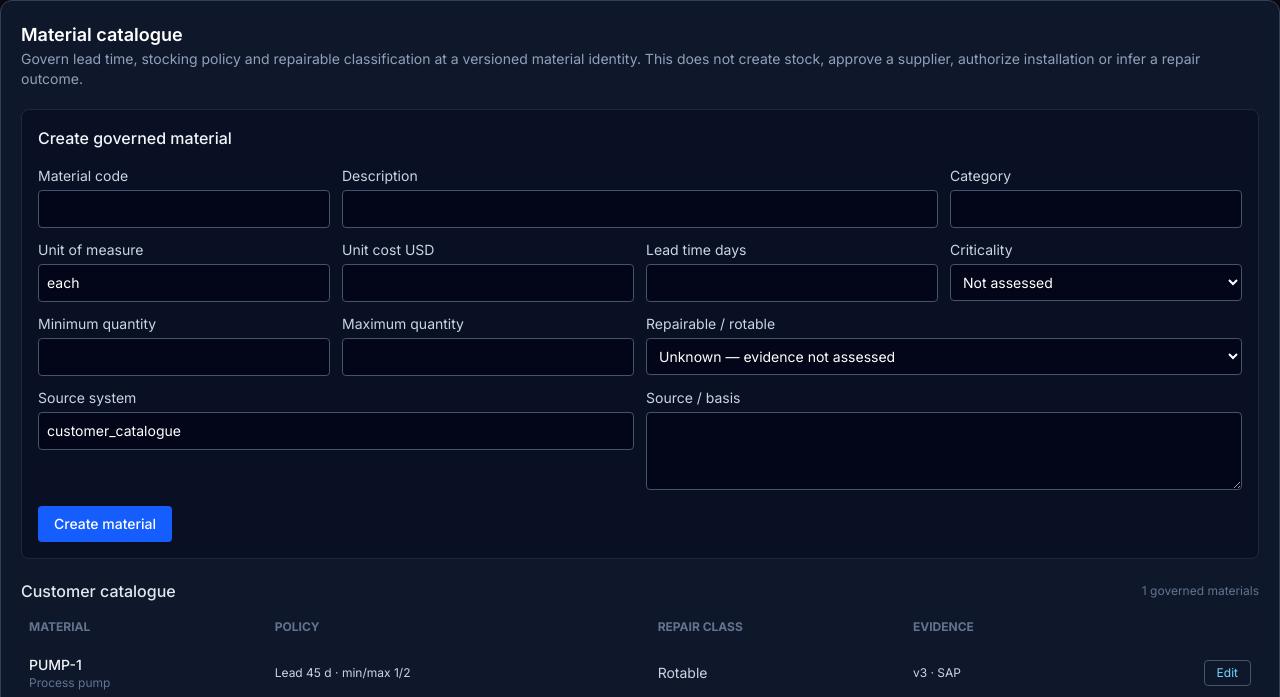
MaterialCatalogue › carries the loaded master version into an optimistic revision
Click the button "Edit".
click(1227, 673)  # box [1204, 660, 1251, 686]
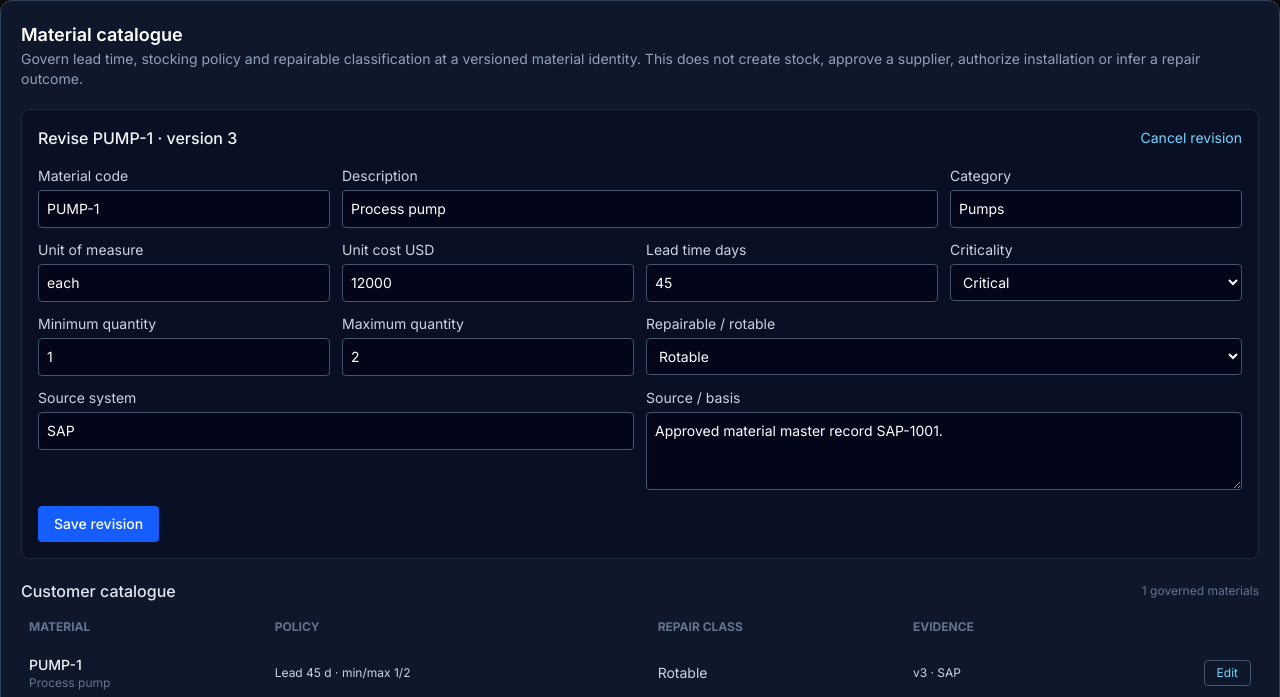
Now the heading "Revise PUMP-1 · version 3" is shown, box [38, 126, 237, 150]
Replace the text in the number field labelled "Lead time days" with "60" at coordinates (792, 283), box [646, 264, 938, 302]
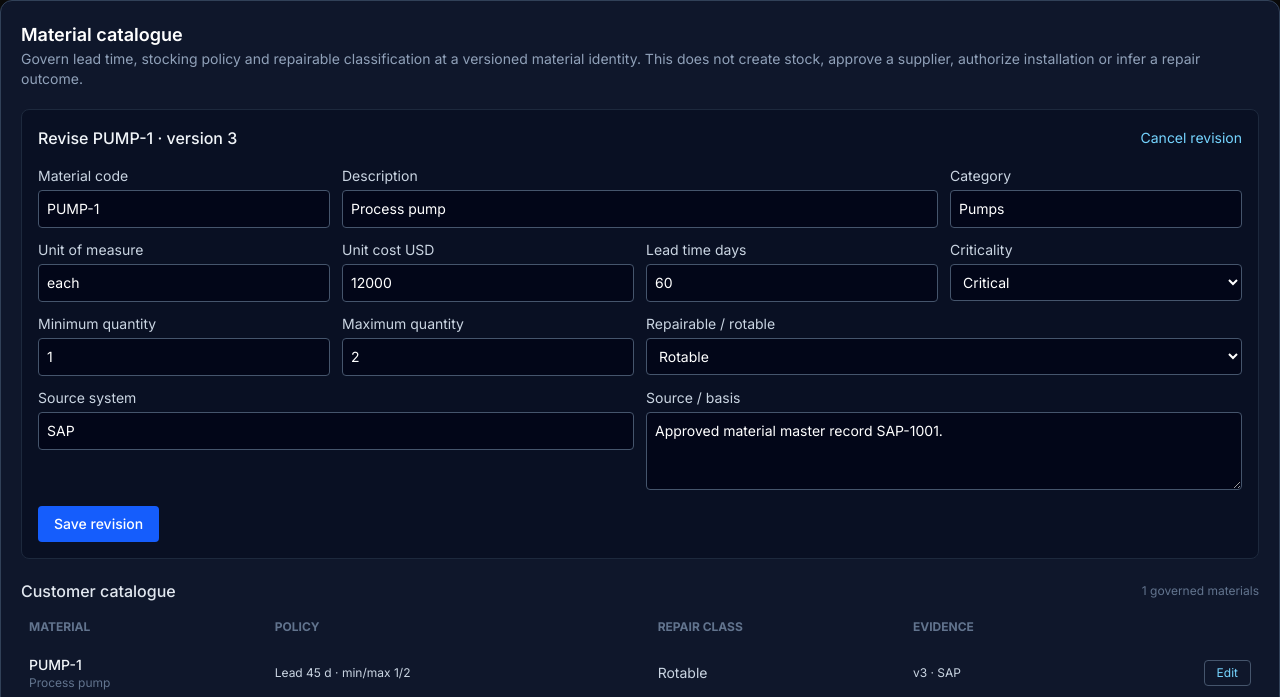
Click the button "Save revision".
click(99, 524)  # box [38, 506, 159, 542]
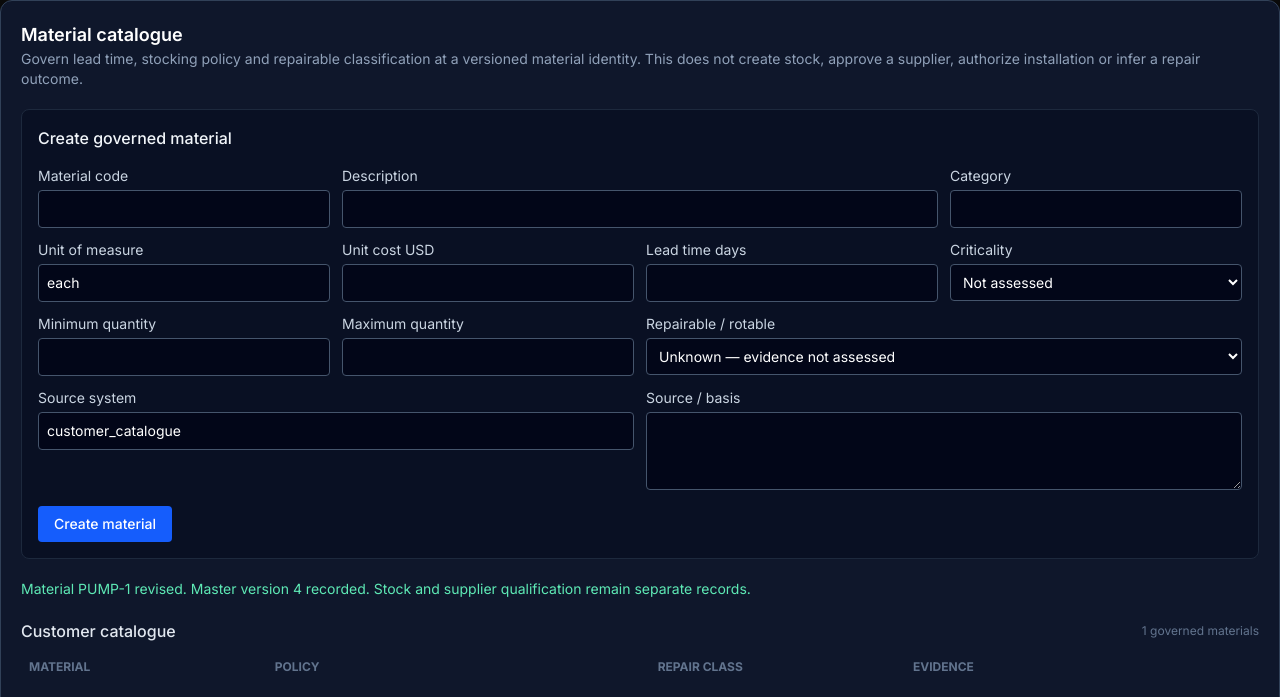
Now the message is shown, box [21, 580, 751, 597]
